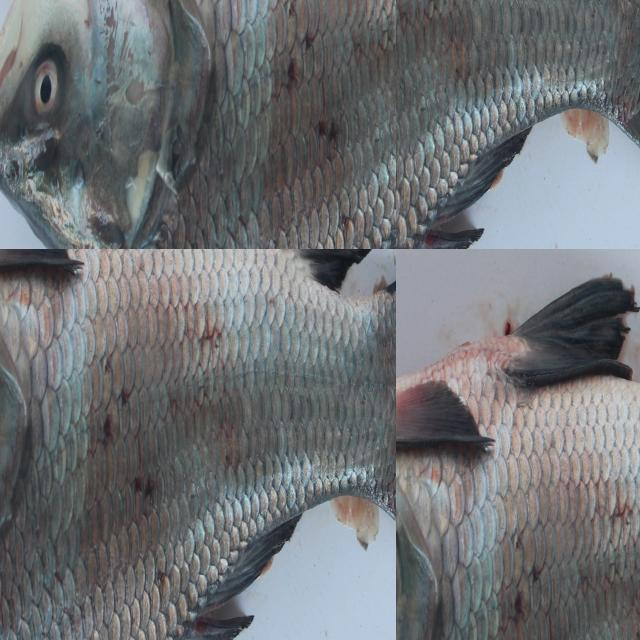fish: (396, 249, 640, 640)
